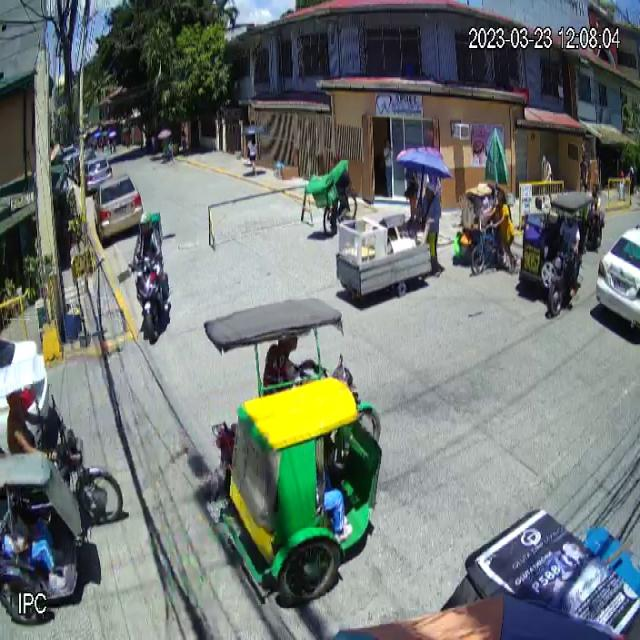Car: (92, 172, 145, 246)
Motorcycle: (128, 254, 172, 344)
Tricycle: (200, 303, 382, 604), (517, 190, 588, 316)
